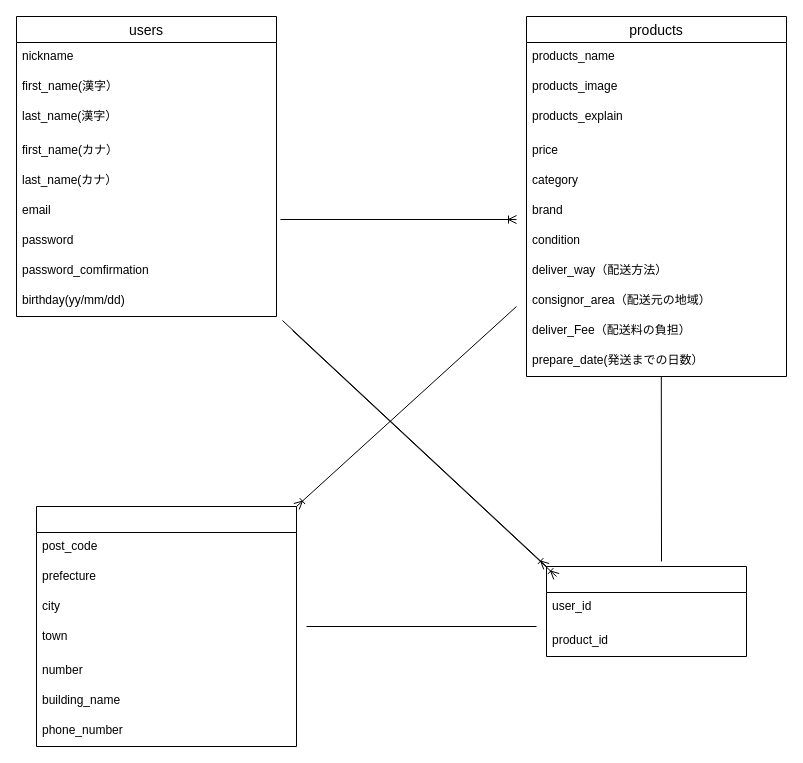
Image size: 803x763. Some labels were removed from this diagram. The shapes that lost their labels are listed below. From the top down, each one's box as (x1, y1, x2, y2) in pixels, then its label:
(36, 506, 296, 746): purchase
(546, 566, 746, 656): ordered
